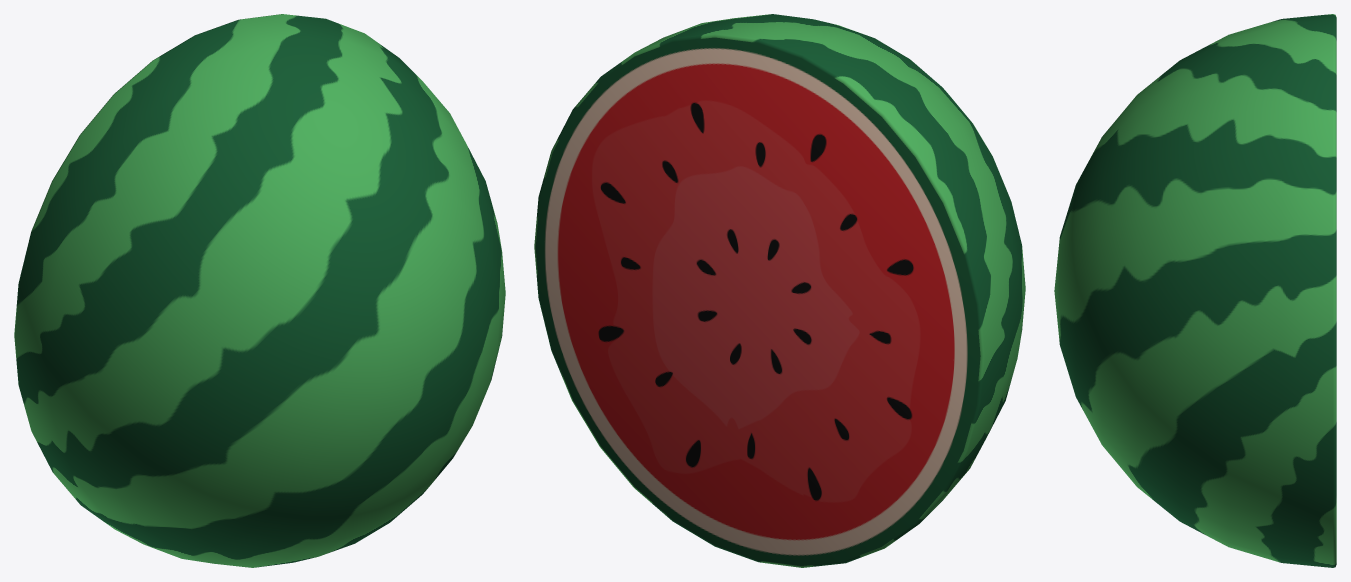
Rendered from Watermelon.fbx.
3 views of the same model, side by side, from view 1: azimuth 30°, elevation 25°; view 2: azimuth 150°, elevation 25°; view 3: azimuth 270°, elevation 25° (orthographic). The views are drawn at different scales.
Visible parts, largest first — view 1: Watermelon; view 2: Watermelon; view 3: Watermelon.
Boxes of the visible parts, left/top/right/bottom form: Watermelon: left=14, top=14, right=505, bottom=567; Watermelon: left=534, top=14, right=1025, bottom=567; Watermelon: left=1054, top=14, right=1336, bottom=567.
Bounding box in the file's own units: 23.88 × 26.54 × 13.29.
